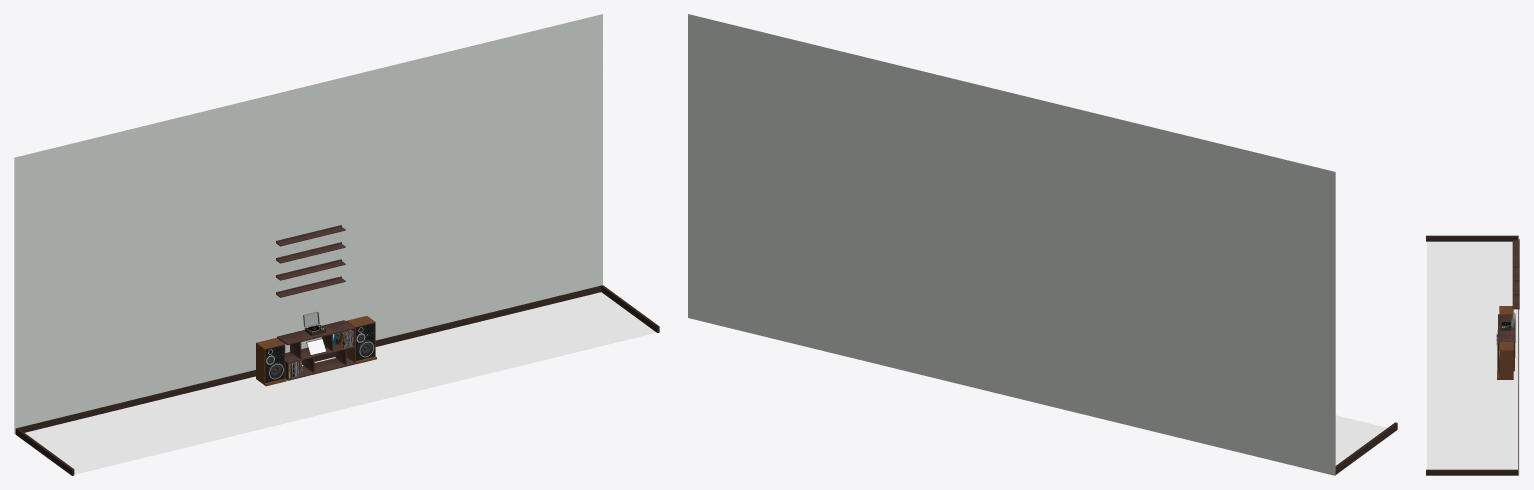
File: room-transformed.glb
3 renders of one model, left to right at view 1: azimuth 30°, elevation 25°; view 2: azimuth 150°, elevation 25°; view 3: azimuth 270°, elevation 25°, orthographic. The views are drawn at different scales.
Visible parts, largest first — view 1: Room, Table, Object_49.001; view 2: Room; view 3: Room, Table, Object_49.001, Player.
Boxes of the visible parts, box(x1,y1,x2,y2) form: Room: box(14, 14, 659, 475); Table: box(276, 225, 355, 380); Object_49.001: box(256, 316, 376, 386); Room: box(688, 14, 1397, 475); Room: box(1426, 235, 1519, 475); Table: box(1497, 239, 1519, 371); Object_49.001: box(1497, 306, 1513, 379); Player: box(1500, 312, 1515, 330).
Bounding box in the file's own units: 12 × 5.4 × 2.02.
Materials: 129 (123 with a texture image).
